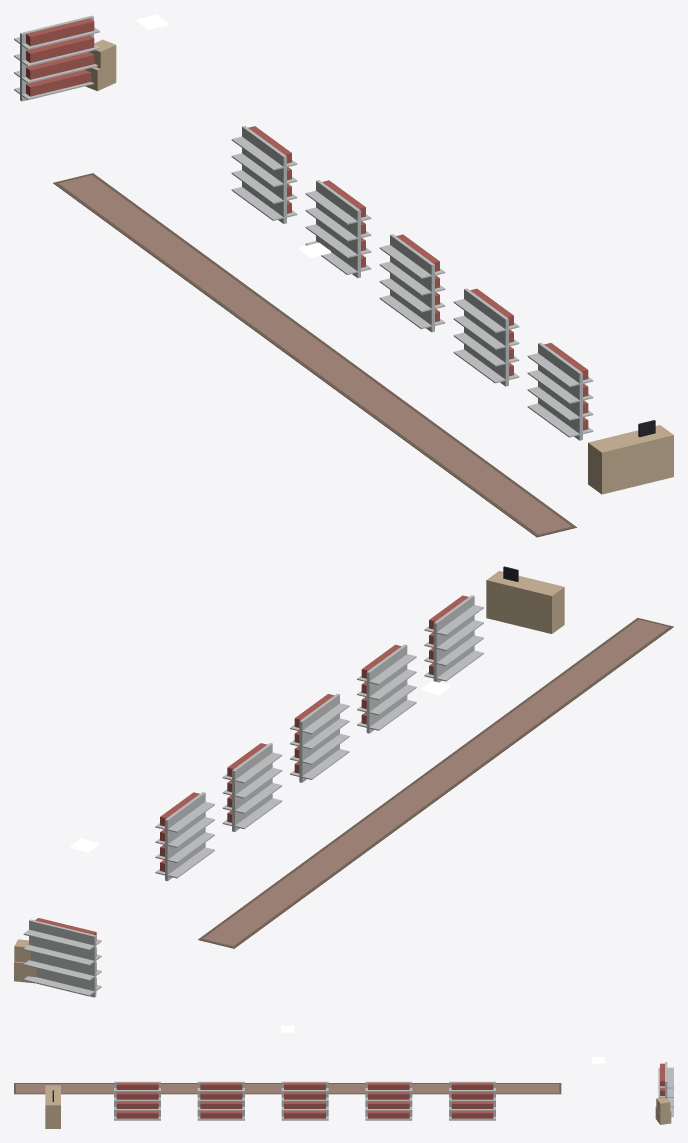
Rendered from fine-s0.glb.
3 renders of one model, top to bottom at view 1: azimuth 30°, elevation 25°; view 2: azimuth 150°, elevation 25°; view 3: azimuth 270°, elevation 25°, orthographic. The views are drawn at different scales.
Visible parts, largest first — view 1: soft-s0, shelving.000, shop-counter.000, shelf.004, shelf.000, shelf.002, shelf.003, shelf.001, cardboard-box.000; view 2: soft-s0, shelving.000, shop-counter.000, shelf.003, shelf.001, shelf.002, shelf.000, shelf.004, cardboard-box.000; view 3: soft-s0, shelf.001, shelf.002, shelf.003, shelf.000, shelf.004, shop-counter.000, shelving.000, cardboard-box.000.
Boxes of the visible parts, box(x1,y1,x2,y2) form: soft-s0: box(53, 173, 576, 537); shelving.000: box(14, 15, 99, 101); shop-counter.000: box(588, 420, 673, 494); shelf.004: box(527, 342, 593, 440); shelf.000: box(231, 126, 297, 223); shelf.002: box(379, 234, 445, 332); shelf.003: box(453, 288, 519, 386); shelf.001: box(305, 180, 371, 278); cardboard-box.000: box(85, 39, 116, 91); soft-s0: box(198, 617, 673, 948); shelving.000: box(23, 918, 101, 997); shop-counter.000: box(486, 566, 564, 633); shelf.003: box(357, 644, 416, 733); shelf.001: box(222, 743, 282, 831); shelf.002: box(290, 693, 349, 782); shelf.000: box(155, 792, 214, 881); shelf.004: box(424, 595, 483, 682); cardboard-box.000: box(14, 939, 36, 983); soft-s0: box(14, 1083, 561, 1094); shelf.001: box(365, 1081, 412, 1120); shelf.002: box(281, 1081, 328, 1120); shelf.003: box(197, 1081, 244, 1120); shelf.000: box(449, 1081, 495, 1120); shelf.004: box(114, 1081, 160, 1120); shop-counter.000: box(45, 1085, 60, 1128); shelving.000: box(658, 1062, 673, 1116); cardboard-box.000: box(655, 1097, 671, 1124).
Bounding box in the file's own units: 4.11 × 2.53 × 25.22.
